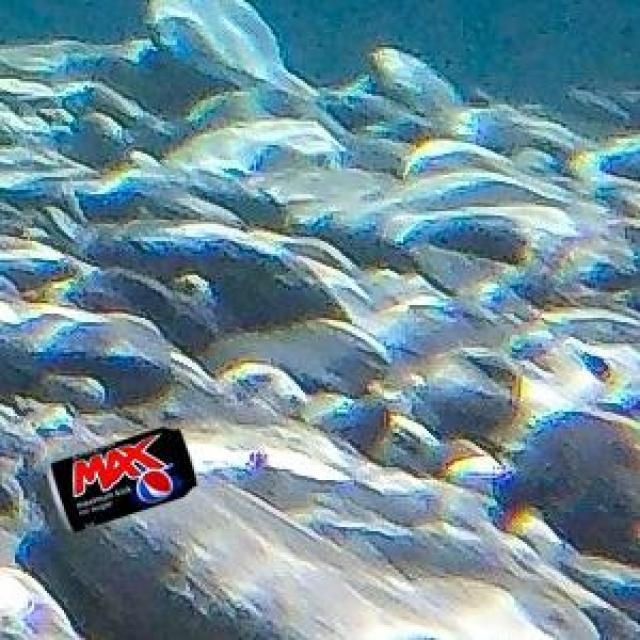Can: (44, 426, 193, 528)
